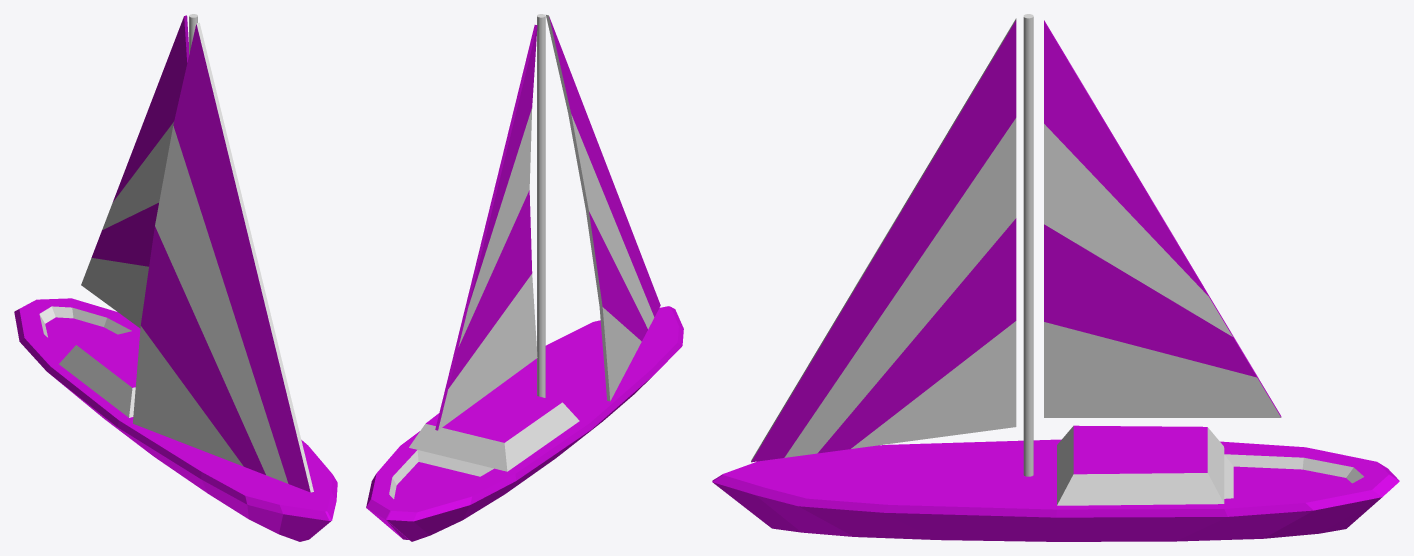
The model's file is sailboat.glb.
3 renders of one model, left to right at view 1: azimuth 30°, elevation 25°; view 2: azimuth 150°, elevation 25°; view 3: azimuth 270°, elevation 25°, orthographic. The views are drawn at different scales.
Visible parts, largest first — view 1: Cube.002, Cube, Cube.001; view 2: Cube, Cube.001, Cube.002, Cylinder; view 3: Cube, Cube.002, Cube.001, Cylinder.
Part boxes in pixels (x1,y1,x2,y2): Cube.002: [133, 22, 313, 492]; Cube: [14, 298, 337, 541]; Cube.001: [81, 15, 188, 328]; Cube: [366, 306, 683, 541]; Cube.001: [435, 25, 537, 430]; Cube.002: [546, 15, 660, 401]; Cylinder: [537, 14, 545, 397]; Cube: [712, 425, 1399, 541]; Cube.002: [751, 18, 1016, 462]; Cube.001: [1044, 20, 1281, 417]; Cylinder: [1023, 14, 1033, 476].
Size of the model in its own units: 7.01 by 22.76 by 27.8.
